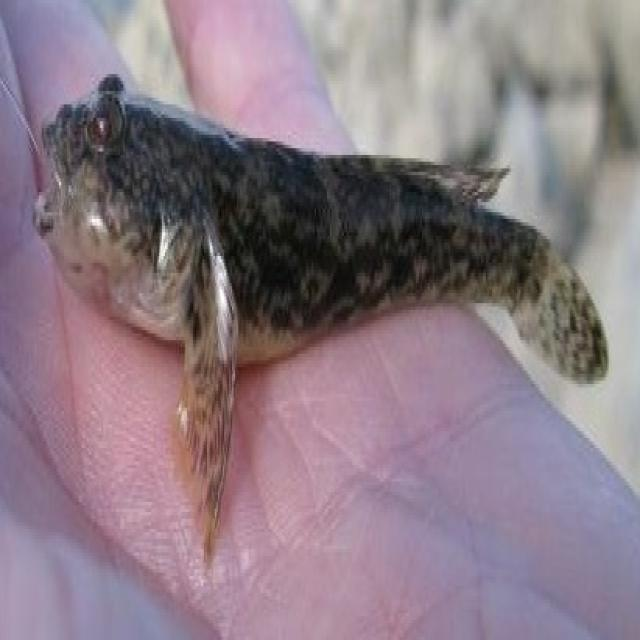Goby: (27, 0, 628, 551)
